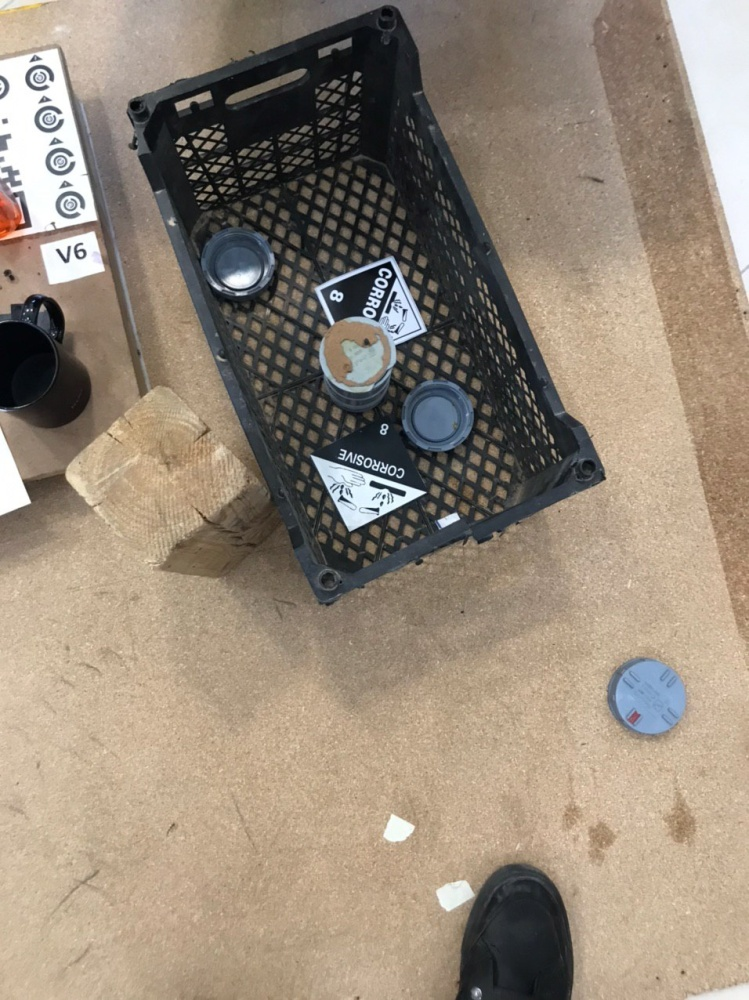Corrosive: (310, 416, 427, 532), (314, 256, 427, 350)
